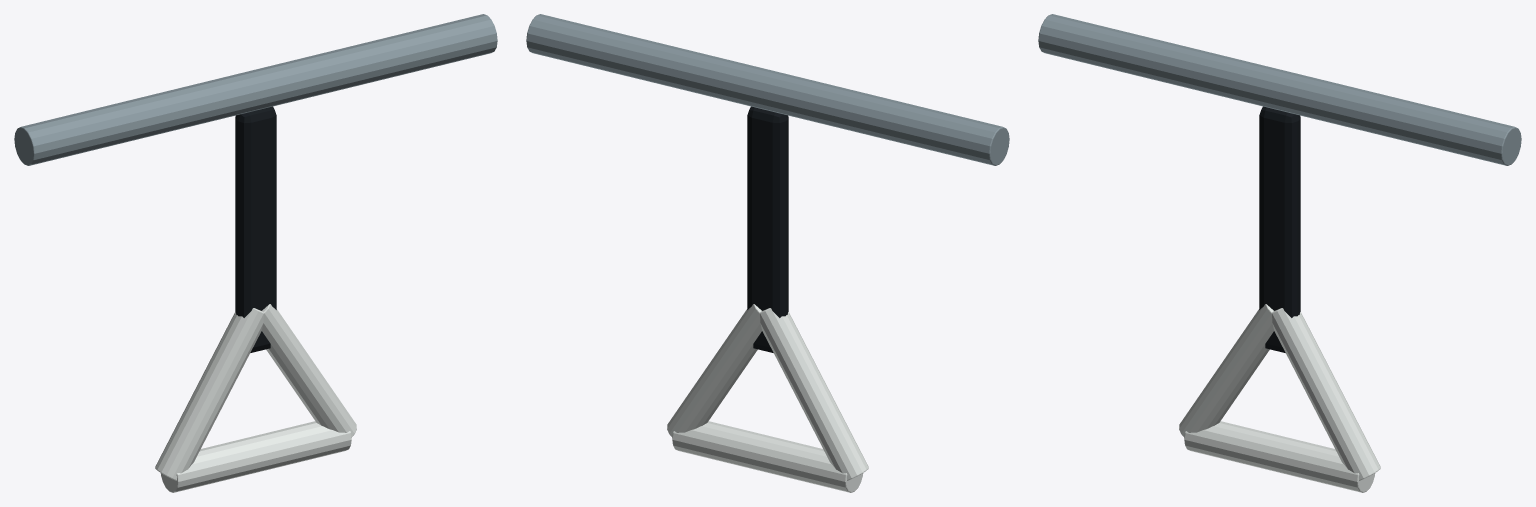
3 renders of one model, left to right at view 1: azimuth 30°, elevation 25°; view 2: azimuth 150°, elevation 25°; view 3: azimuth 330°, elevation 25°, orthographic.
Parts seen in each view (by area): view 1: MOUNT_CeilingRail, STRAP_Hanger, GRIP_Base, GRIP_Left, GRIP_Right; view 2: MOUNT_CeilingRail, STRAP_Hanger, GRIP_Base, GRIP_Left, GRIP_Right; view 3: MOUNT_CeilingRail, STRAP_Hanger, GRIP_Base, GRIP_Right, GRIP_Left.
Boxes of the visible parts, <box> form: MOUNT_CeilingRail: <box>14,14,497,165</box>; STRAP_Hanger: <box>235,106,276,352</box>; GRIP_Base: <box>160,421,351,492</box>; GRIP_Left: <box>155,308,263,480</box>; GRIP_Right: <box>261,304,356,437</box>; MOUNT_CeilingRail: <box>526,14,1009,165</box>; STRAP_Hanger: <box>747,106,788,352</box>; GRIP_Base: <box>672,421,863,492</box>; GRIP_Left: <box>760,308,868,480</box>; GRIP_Right: <box>667,304,762,437</box>; MOUNT_CeilingRail: <box>1038,14,1521,165</box>; STRAP_Hanger: <box>1259,106,1300,352</box>; GRIP_Base: <box>1184,421,1375,492</box>; GRIP_Right: <box>1272,308,1380,480</box>; GRIP_Left: <box>1179,304,1274,437</box>.
Size of the model in its own units: 0.56 by 0.46 by 0.042.
